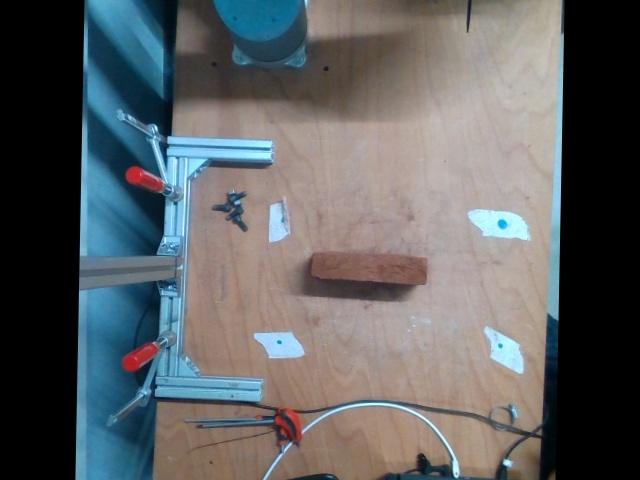brick-side: (314, 251, 428, 283)
